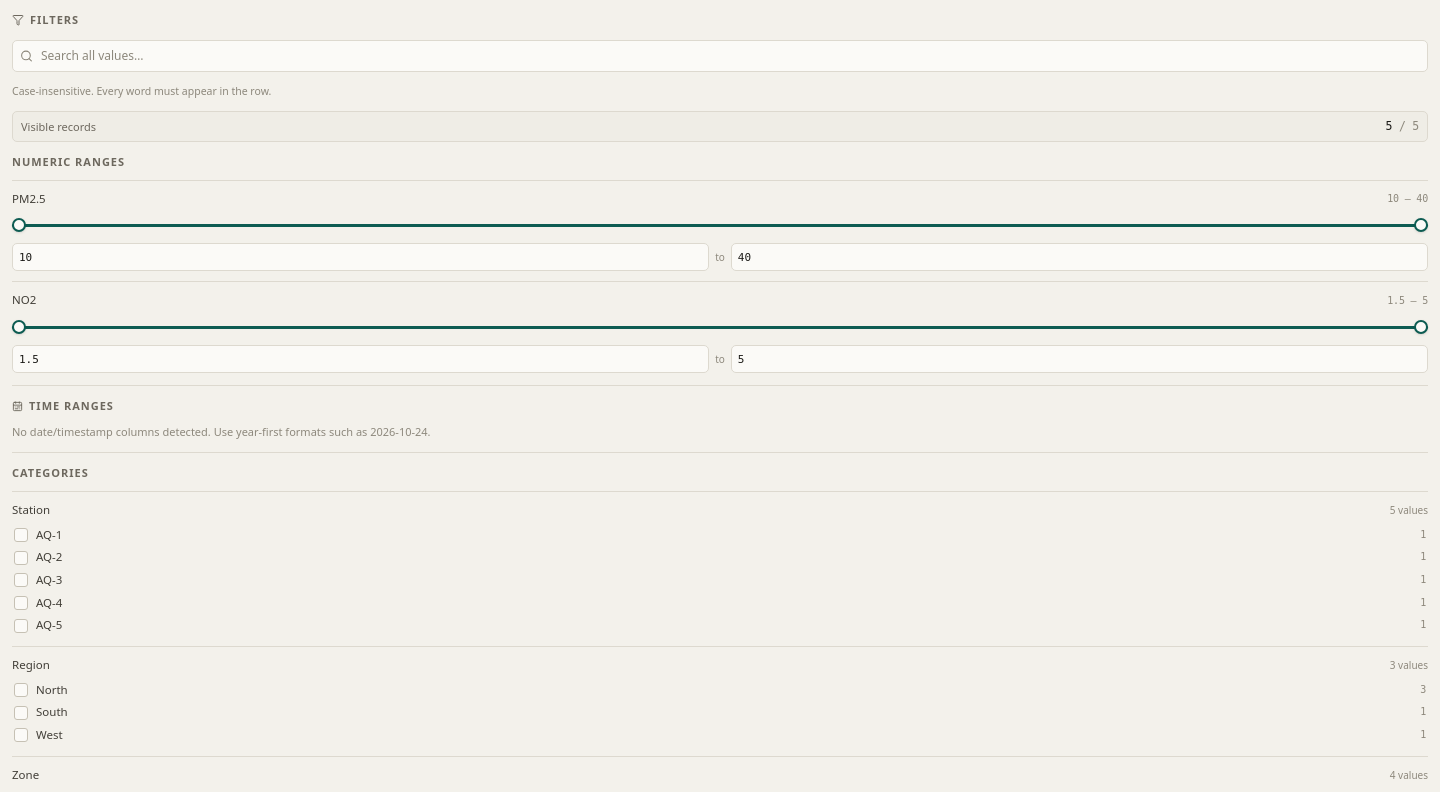
Test: FilterPanel › shows a no-match warning and clears every filter
Type "zzz" into the field named "Search all dataset values" at {"x": 720, "y": 56}, box top-left (12, 40), bottom-right (1428, 72)
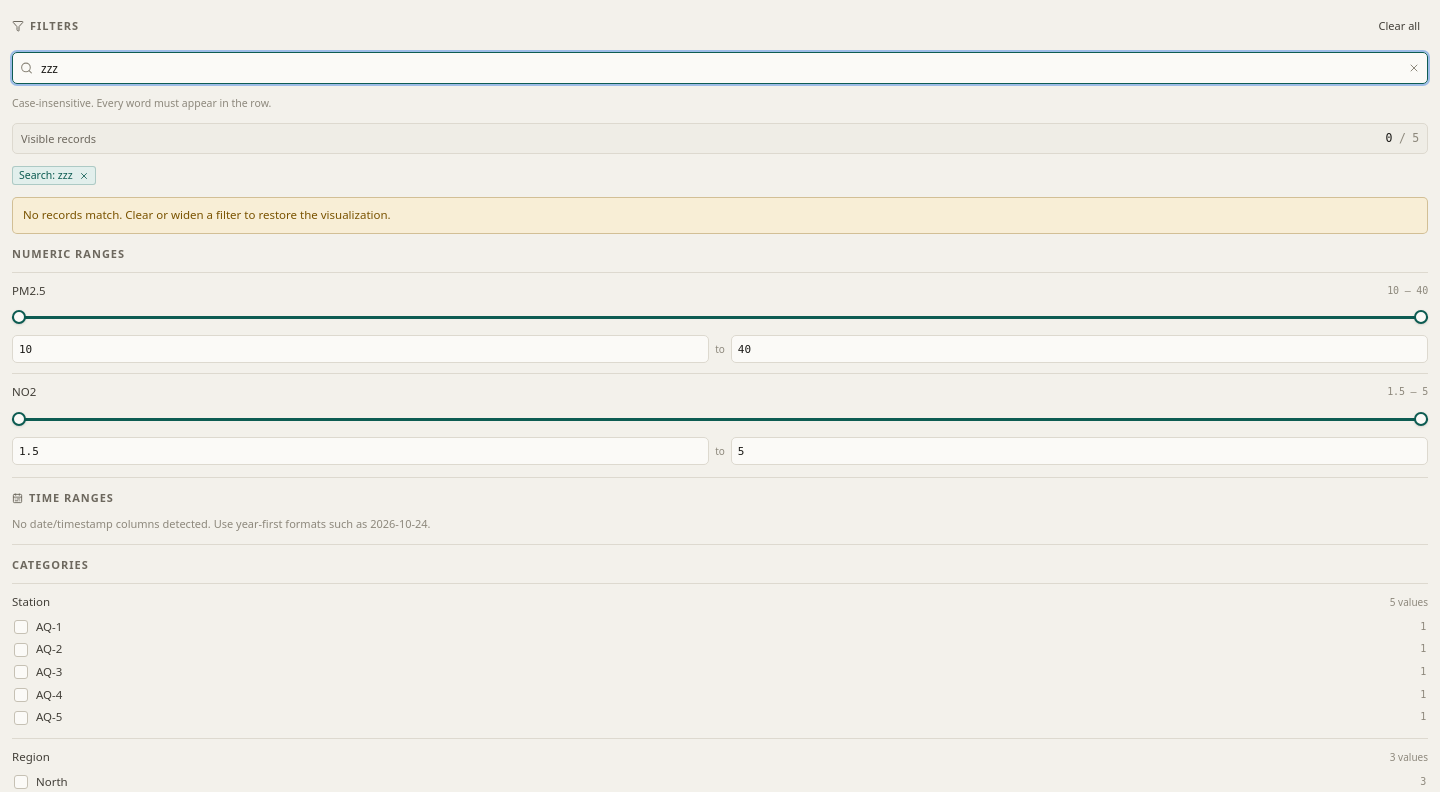
Result: the text "No records match" is shown at top-left (23, 207), bottom-right (391, 222)
Click the button "Clear all" at {"x": 1399, "y": 26}, box top-left (1371, 12), bottom-right (1428, 40)
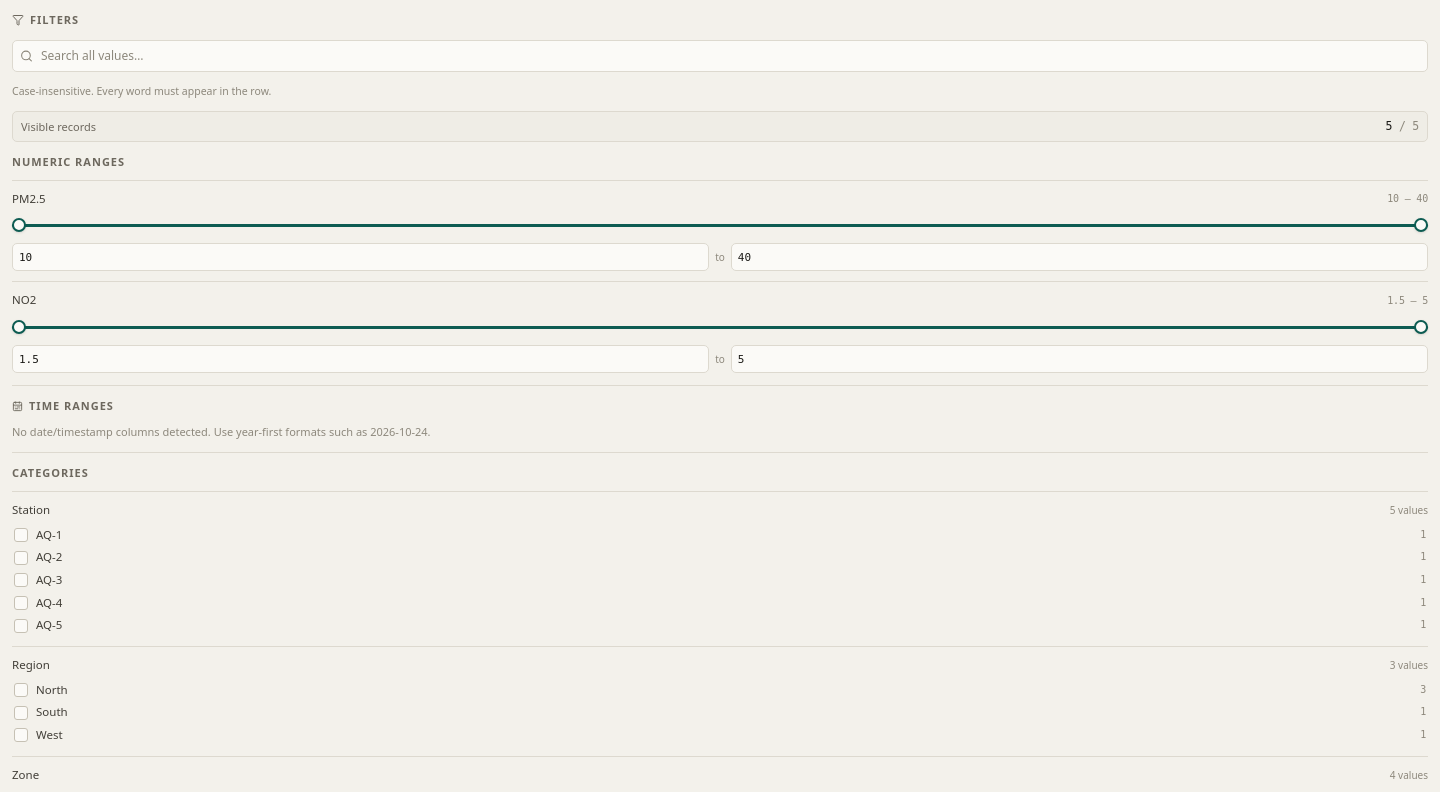
Result: the text "No records match" is gone
